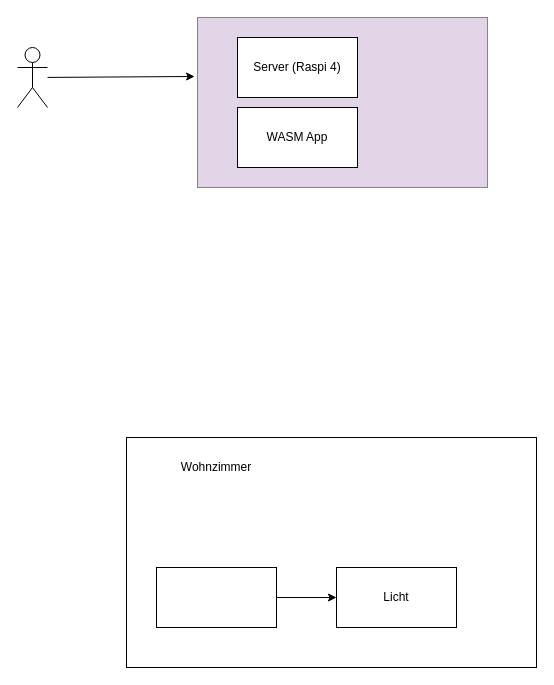
Image size: 554x685. Some labels were removed from this diagram. Here are the shapes that lost their labels. From the top down, the centre of each, then its label:
At pixel 32 77: "User".
At pixel 216 597: "Microcontroller".
